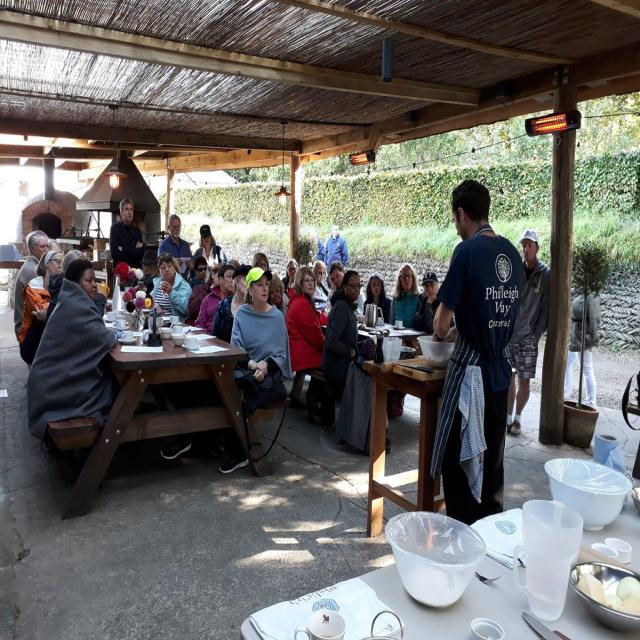body: (432, 177, 528, 526), (160, 266, 290, 474), (25, 258, 156, 464), (156, 263, 243, 410), (502, 228, 550, 436), (321, 270, 377, 406), (18, 248, 65, 369), (44, 249, 106, 331), (562, 289, 601, 409), (13, 229, 50, 342), (108, 196, 146, 293), (211, 263, 253, 346), (220, 251, 286, 301), (149, 252, 193, 323), (411, 268, 456, 336), (183, 262, 226, 328), (156, 214, 195, 282), (190, 223, 229, 284), (325, 262, 367, 316), (389, 262, 421, 330), (362, 271, 392, 324), (323, 222, 349, 276), (265, 272, 292, 323), (132, 248, 161, 294), (310, 259, 333, 313), (280, 258, 300, 300), (188, 254, 208, 291), (309, 230, 326, 261), (46, 238, 62, 255), (169, 257, 179, 277)
